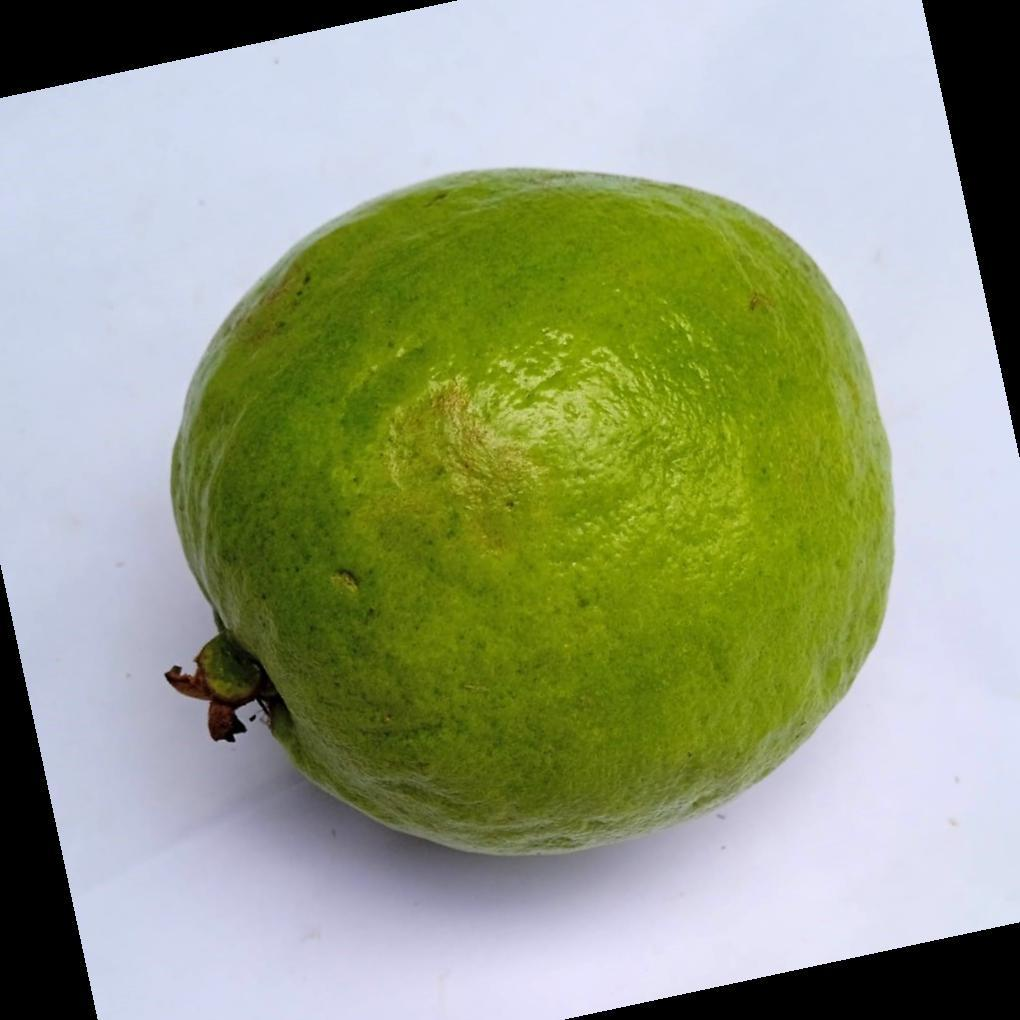FreshGuava: (167, 169, 897, 861)
